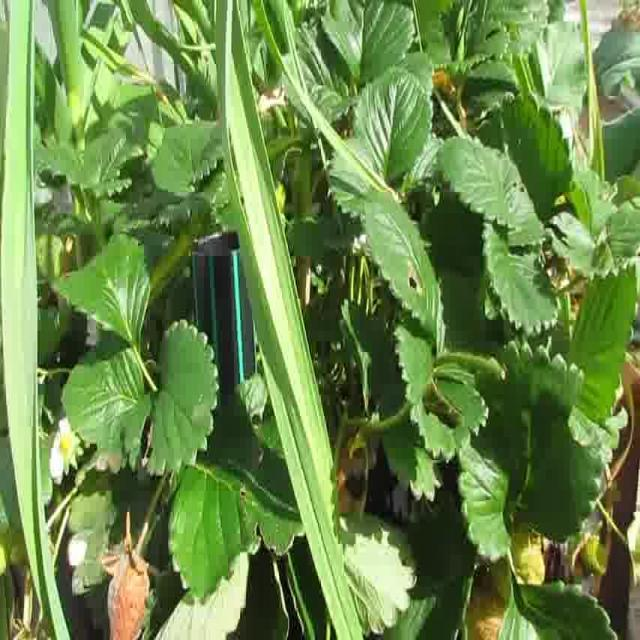Moho gris: (106, 528, 150, 640)
